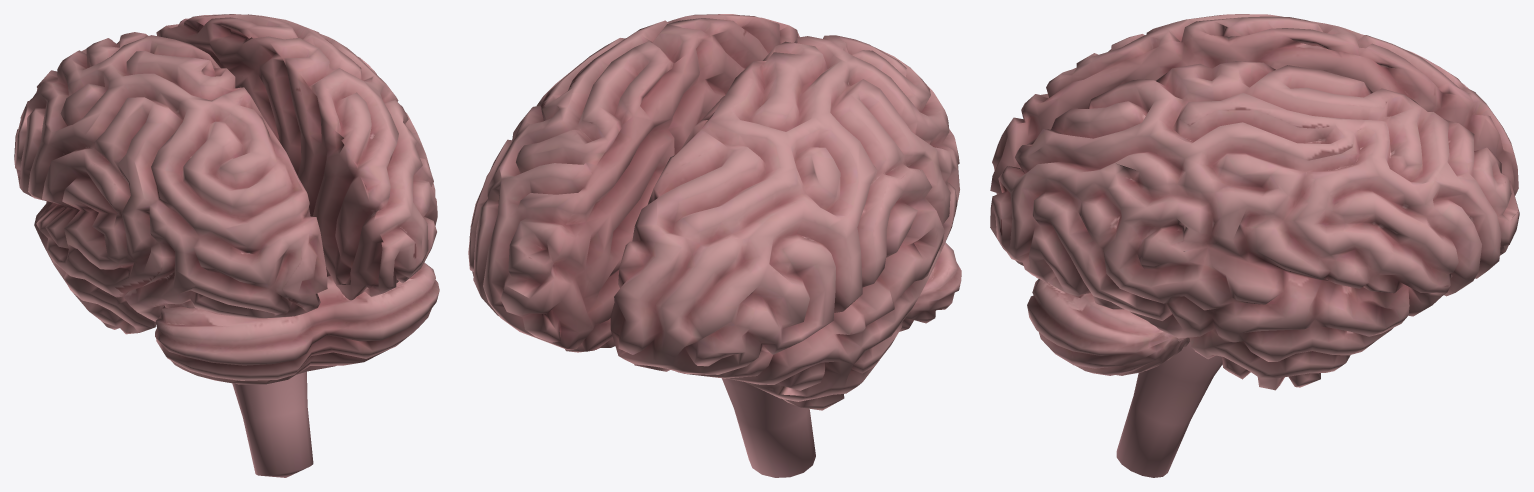
Rendered from brain.glb.
3 renders of one model, left to right at view 1: azimuth 30°, elevation 25°; view 2: azimuth 150°, elevation 25°; view 3: azimuth 270°, elevation 25°, orthographic. The views are drawn at different scales.
Parts seen in each view (by area): view 1: Brain; view 2: Brain; view 3: Brain.
Boxes of the visible parts, x1=… form: Brain: x1=14, y1=14, x2=439, y2=477; Brain: x1=468, y1=14, x2=961, y2=477; Brain: x1=990, y1=14, x2=1519, y2=477.
Size of the model in its own units: 0.1051 by 0.1221 by 0.1378.
Materials: 1 (1 with a texture image).
